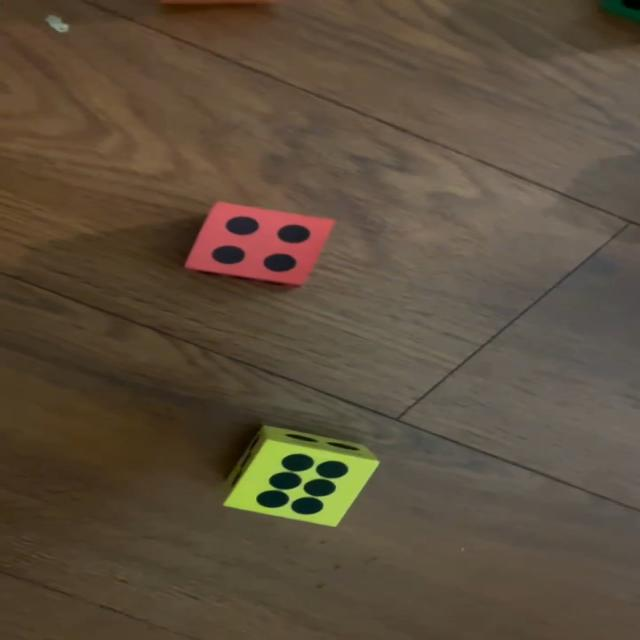red_block: (186, 202, 334, 284)
